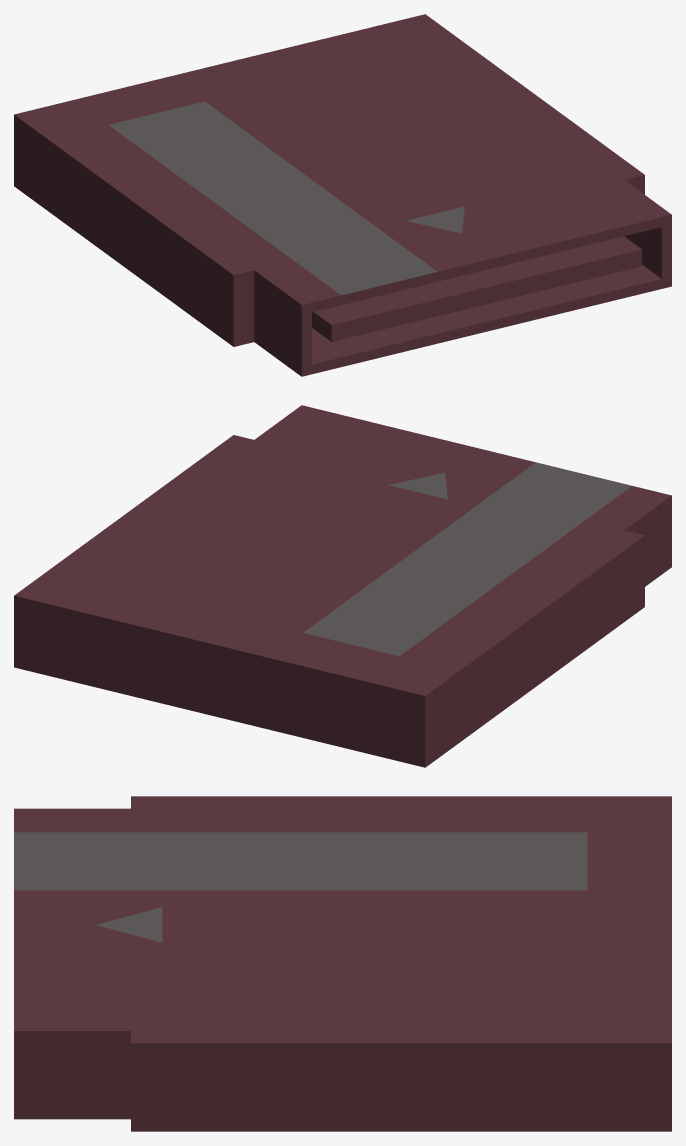
The model's file is cartridge-game-d.fbx.
The picture shows the model from 3 angles, top to bottom: view 1: azimuth 30°, elevation 25°; view 2: azimuth 150°, elevation 25°; view 3: azimuth 270°, elevation 25°; orthographic projection. The views are drawn at different scales.
Visible parts, largest first — view 1: cartridge-game-d; view 2: cartridge-game-d; view 3: cartridge-game-d.
Part boxes in pixels (left/top/right/bottom): cartridge-game-d: left=14, top=14, right=671, bottom=376; cartridge-game-d: left=14, top=405, right=671, bottom=767; cartridge-game-d: left=14, top=796, right=671, bottom=1131.
Size of the model in its own units: 0.132 by 0.022 by 0.1485.
